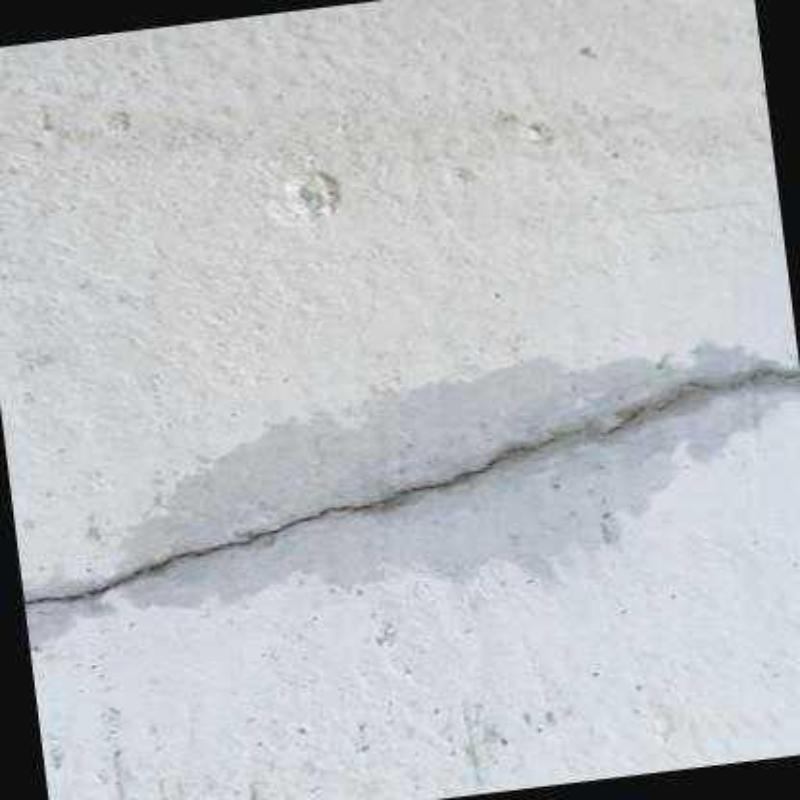pothole: (21, 369, 800, 608)
